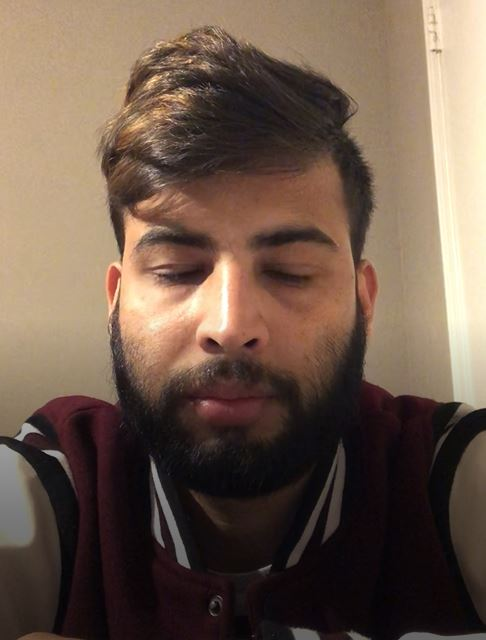Sleeping: (124, 239, 338, 302)
